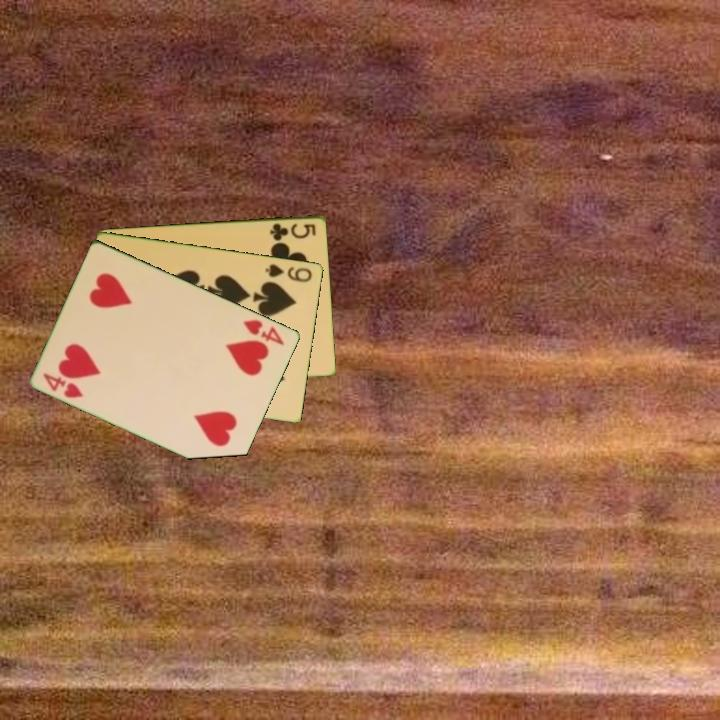4h: (240, 316, 288, 348), (40, 369, 86, 401)
5c: (267, 220, 319, 243)
9s: (262, 260, 315, 285)
